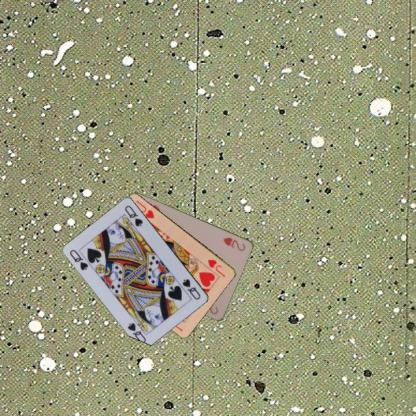2h: (220, 234, 246, 252)
Jh: (205, 256, 227, 278)
Qs: (67, 247, 90, 272), (180, 276, 202, 301)
